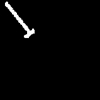half_double_crochet: (5, 2, 33, 37)
